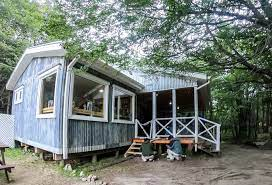Tin-shade House: (8, 36, 214, 162)
